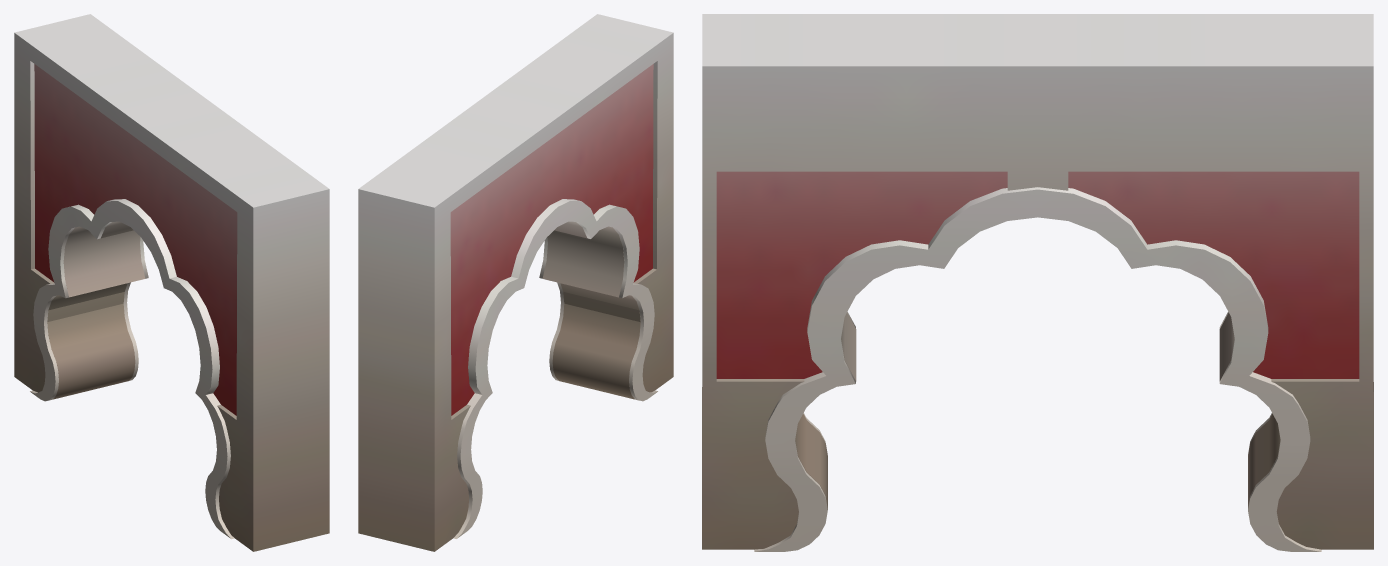
The model's file is M_Arch_03.fbx.
3 views of the same model, side by side, from view 1: azimuth 30°, elevation 25°; view 2: azimuth 150°, elevation 25°; view 3: azimuth 270°, elevation 25° (orthographic). The views are drawn at different scales.
Visible parts, largest first — view 1: M_Arch_03; view 2: M_Arch_03; view 3: M_Arch_03.
Boxes of the visible parts, <box> form: M_Arch_03: <box>14,14,329,551</box>; M_Arch_03: <box>358,14,673,551</box>; M_Arch_03: <box>702,14,1373,551</box>.
Size of the model in its own units: 164 by 647 by 815.
1 material, 1 textured.
